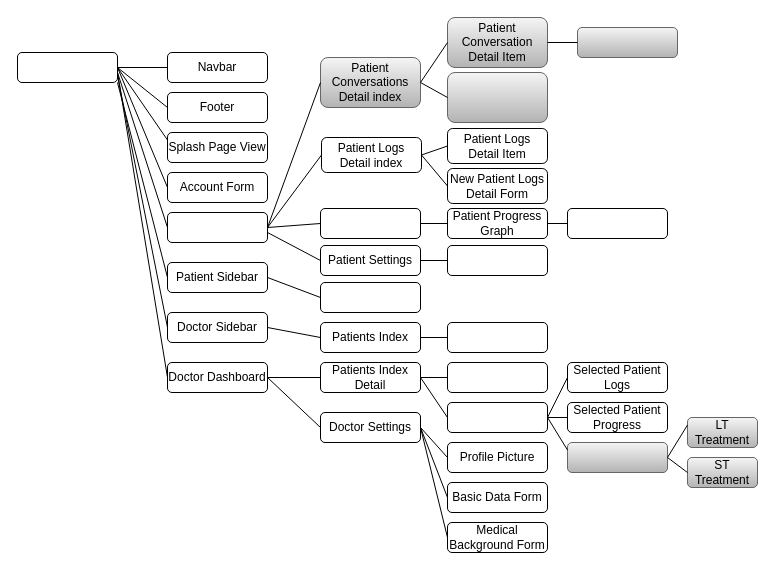
The diagram is 775 pixels wide and 570 high, and some of its shapes have lost their labels. Each missing label, with the centre of its shape:
"App" belongs at point (67, 67).
"Doctor Lookup Field" belongs at point (497, 260).
"New Patient Conversation Detail Item Form" belongs at point (497, 97).
"Patient Dashboard" belongs at point (217, 227).
"Patient Medication" belongs at point (370, 297).
"Patient Progress" belongs at point (370, 223).
"Patient Progress Graph Data" belongs at point (617, 223).
"Patients Index Item" belongs at point (497, 337).
"Patients Searchbar" belongs at point (497, 377).
"Replies" belongs at point (627, 42).
"Selected Patient Detail" belongs at point (497, 417).
"Selected Patient Treatments" belongs at point (617, 457).
